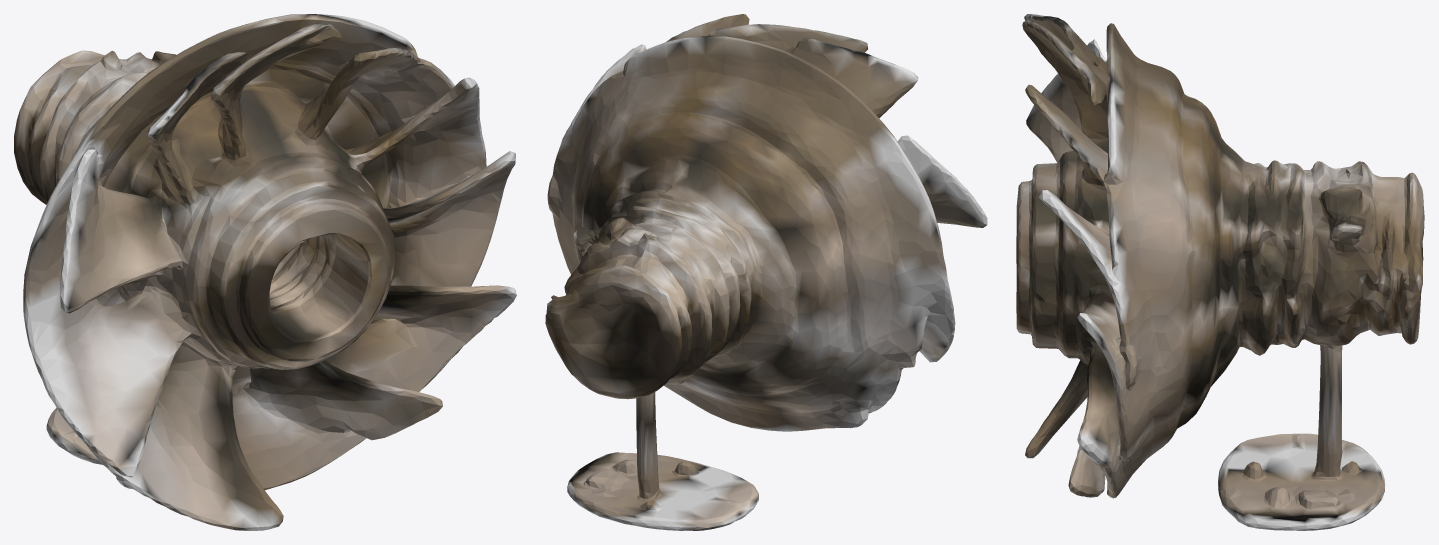
File: impeller.glb
3 views of the same model, side by side, from view 1: azimuth 30°, elevation 25°; view 2: azimuth 150°, elevation 25°; view 3: azimuth 270°, elevation 25° (orthographic). The views are drawn at different scales.
Visible parts, largest first — view 1: tmpx8pool2t.ply; view 2: tmpx8pool2t.ply; view 3: tmpx8pool2t.ply.
Part boxes in pixels (x1=…): tmpx8pool2t.ply: x1=14, y1=14, x2=516, y2=530; tmpx8pool2t.ply: x1=545, y1=14, x2=987, y2=530; tmpx8pool2t.ply: x1=1016, y1=14, x2=1424, y2=530.
Bounding box in the file's own units: 1 × 0.9484 × 0.8036.
